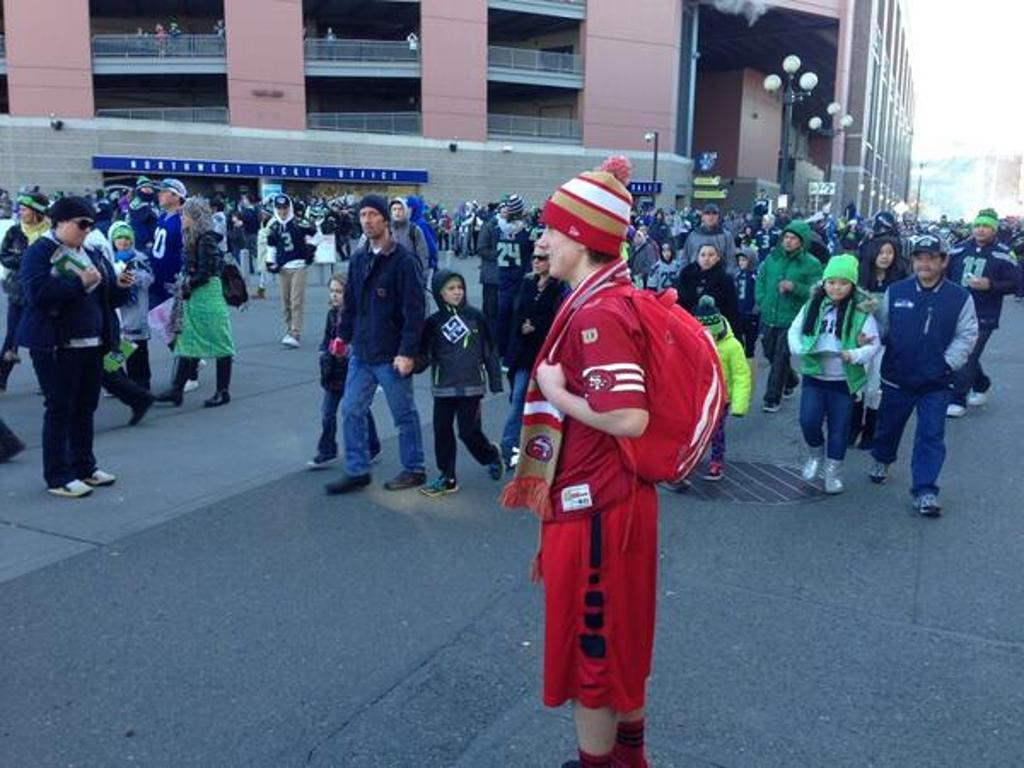face: (537, 216, 576, 276), (61, 211, 94, 246), (913, 248, 941, 279), (359, 205, 384, 236), (824, 273, 852, 299), (440, 276, 464, 305), (531, 246, 551, 275), (873, 244, 894, 268), (330, 279, 348, 306), (974, 219, 994, 241), (698, 247, 717, 269), (783, 231, 801, 250), (114, 229, 131, 249), (18, 202, 34, 223), (703, 207, 718, 224), (390, 202, 404, 220), (275, 200, 288, 219)
